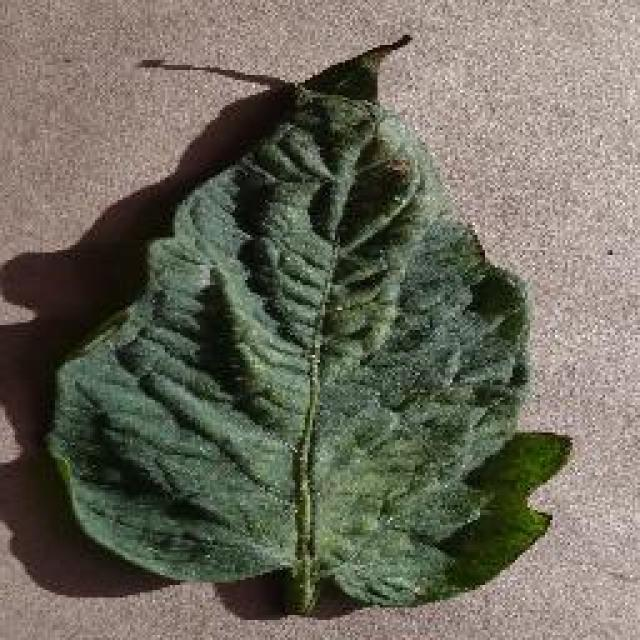Tomato mosaic virus leaf: (47, 32, 575, 618)
